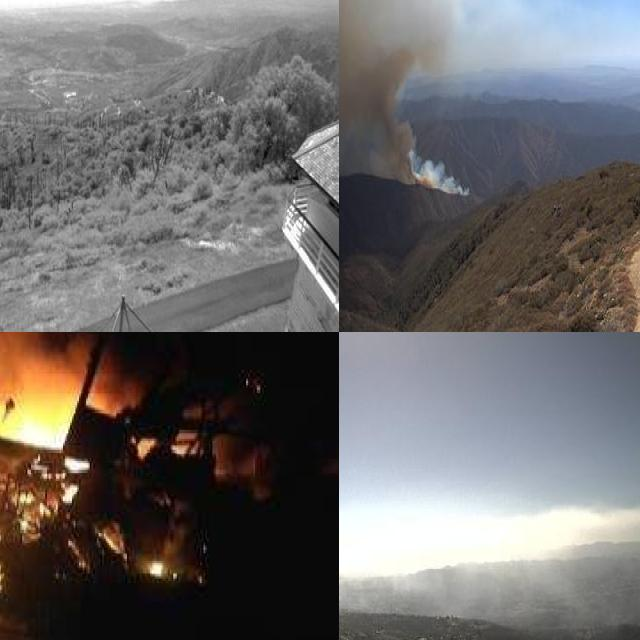fire: (0, 392, 109, 474)
smoke: (339, 0, 472, 198), (339, 546, 589, 626)
